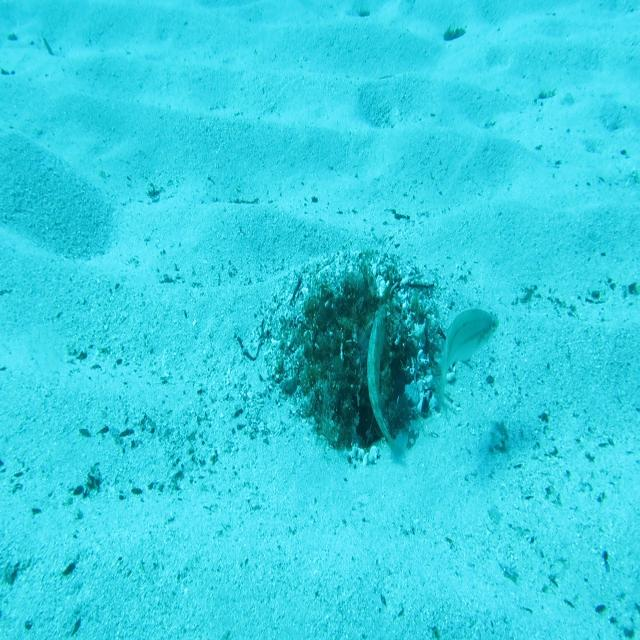LF: (366, 299, 408, 468)
core_nest: (333, 305, 385, 356)
female: (432, 304, 501, 418)
nest: (248, 232, 468, 484)
vegetation: (442, 24, 470, 45)
